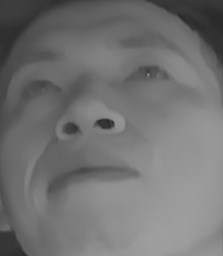eye: (19, 73, 70, 105), (122, 60, 178, 88)
mouth: (47, 152, 141, 197)
